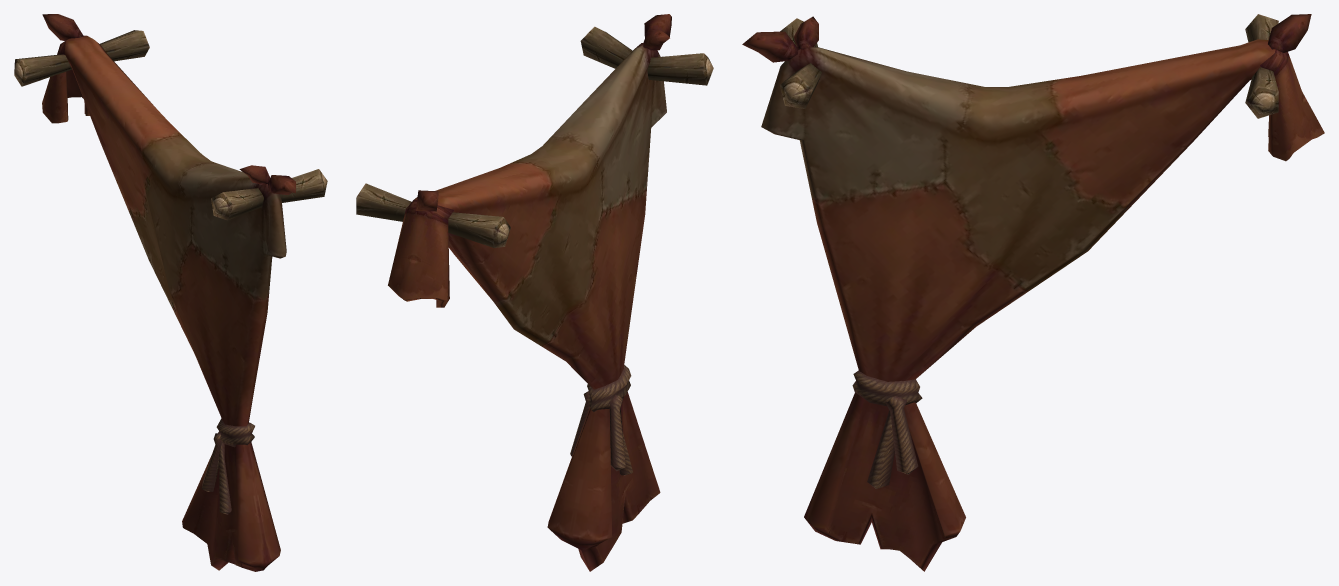
3 views of the same model, side by side, from view 1: azimuth 30°, elevation 25°; view 2: azimuth 150°, elevation 25°; view 3: azimuth 270°, elevation 25° (orthographic). The views are drawn at different scales.
Bounding box in the file's own units: 1.65 × 5.3 × 5.11.
2 materials, 2 textured.
